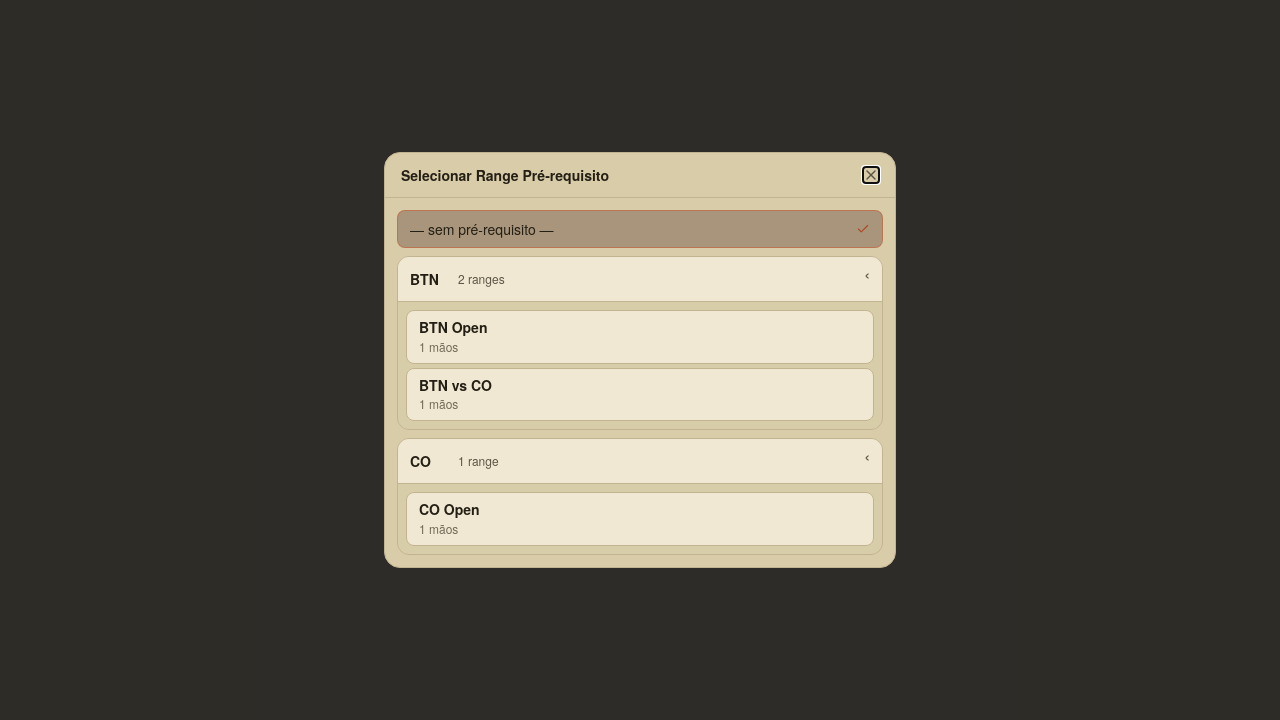
it: PrereqRangePicker › colapsa e reabre um grupo de posição ao clicar no cabeçalho
Expected: the text "BTN Open" is shown, [419, 319, 488, 337]
Click the button "BTN 2 ranges ›". click: click(481, 279)
box: [398, 257, 882, 301]
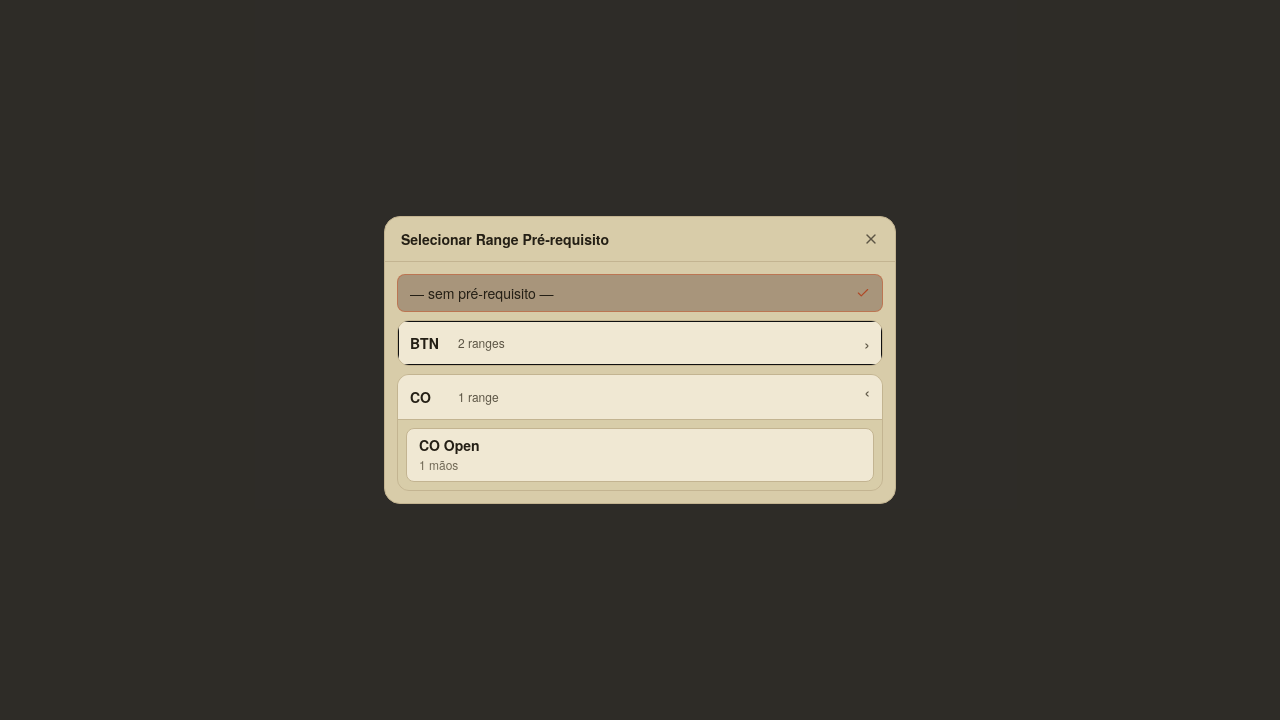
Expected: the button "BTN Open" is gone
Click the button "BTN 2 ranges ›". click: click(481, 343)
box: [398, 321, 882, 365]
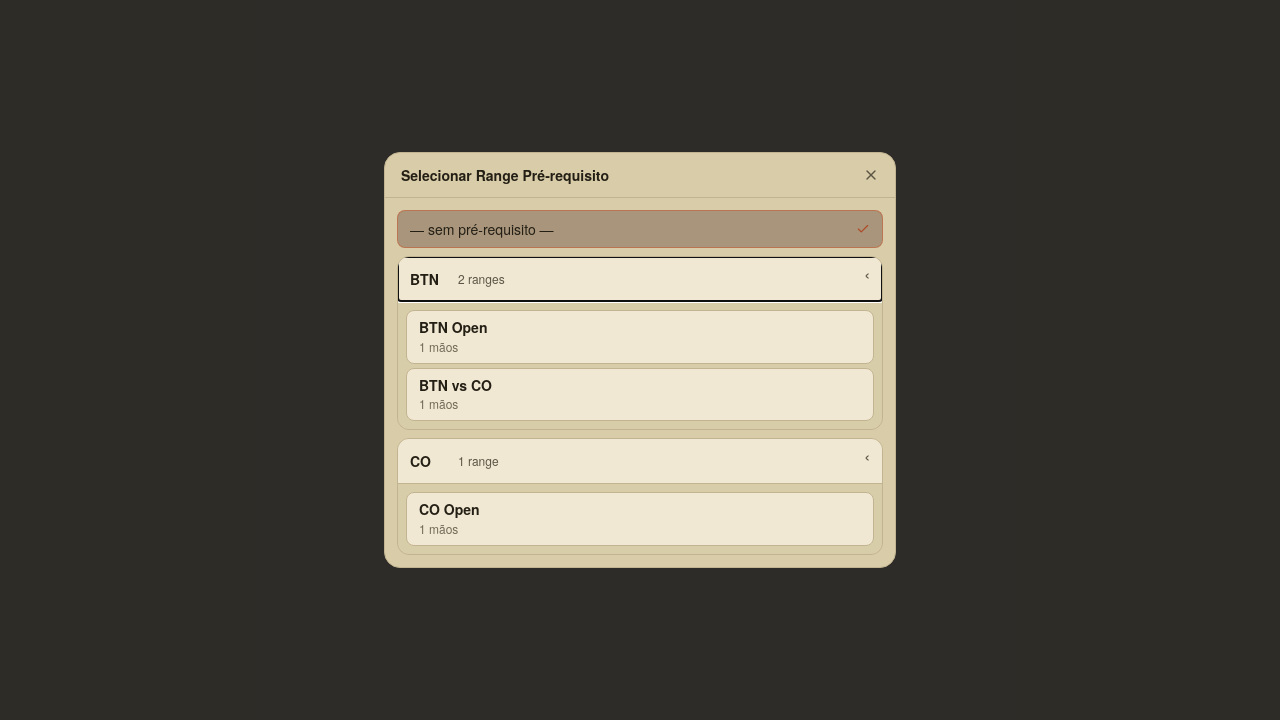
Expected: the text "BTN Open" is shown, [419, 319, 488, 337]
